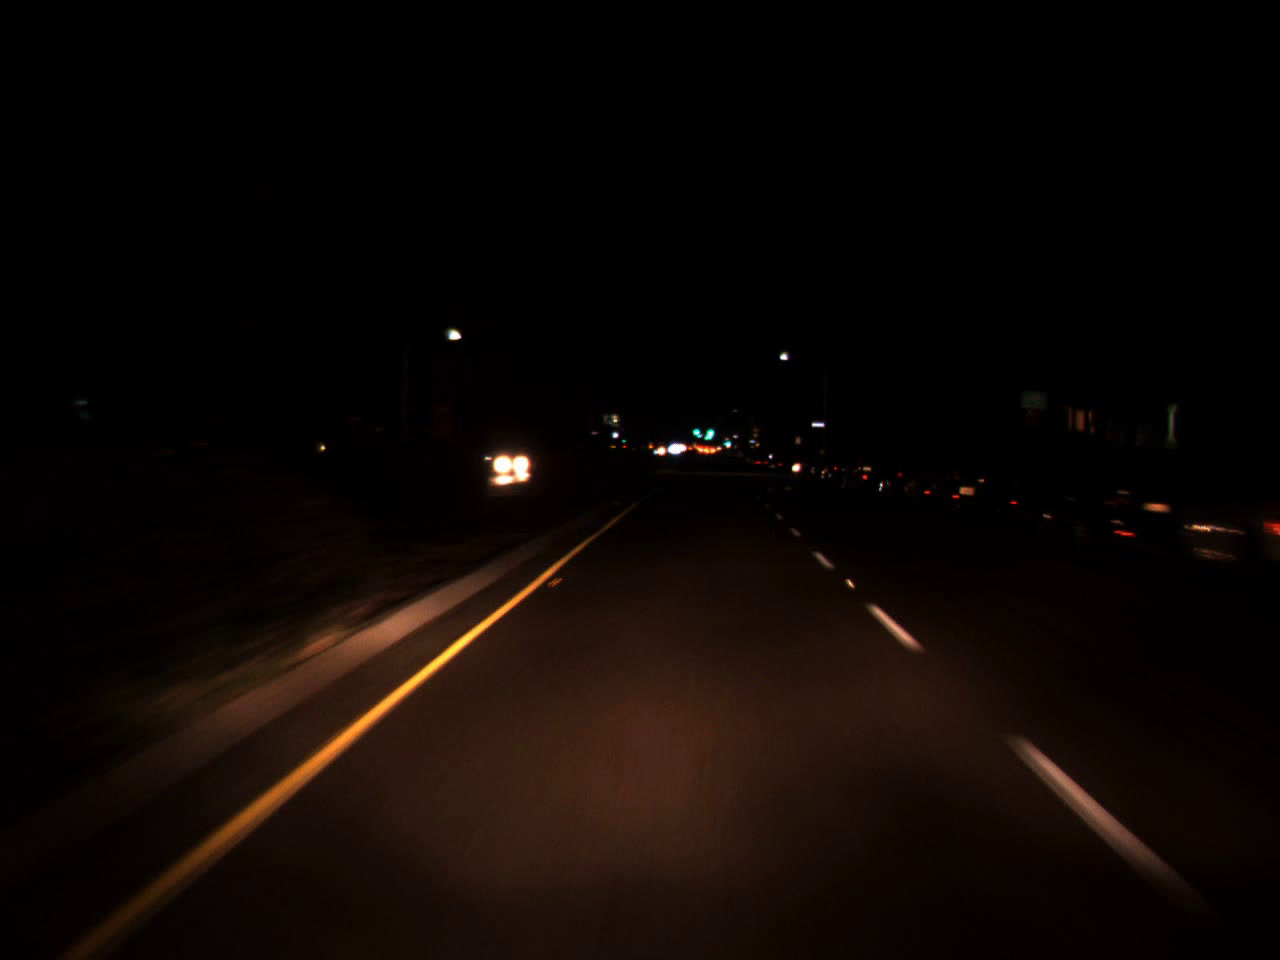go: (702, 416, 716, 443), (691, 419, 701, 440), (720, 435, 732, 447)
